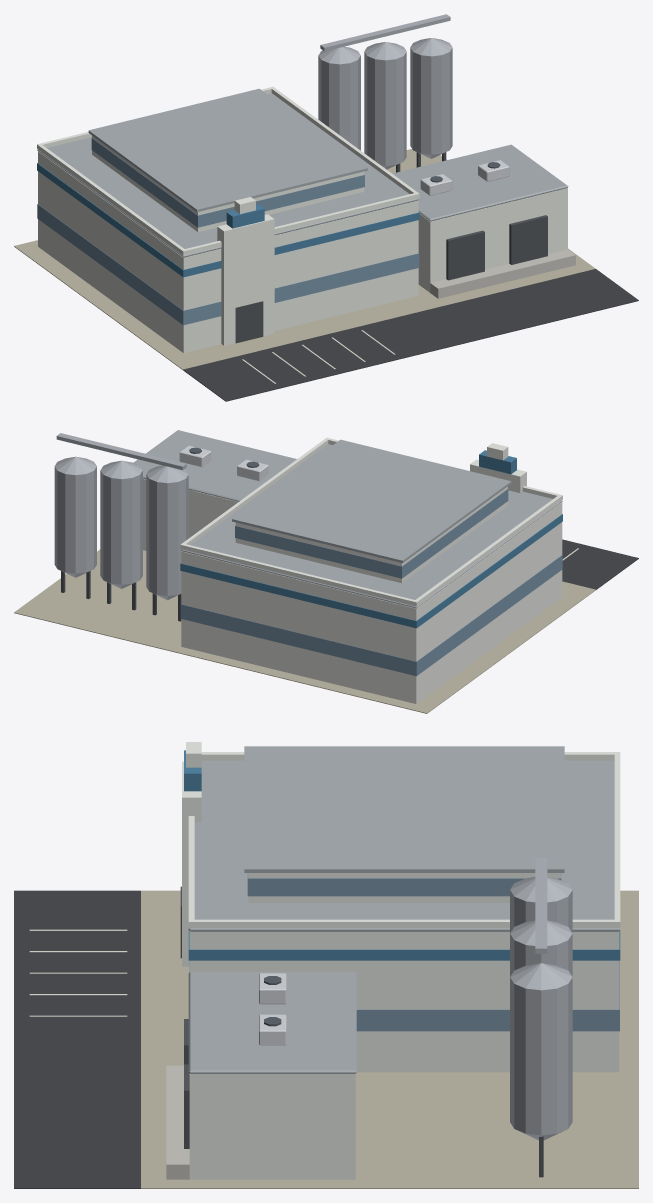
The model's file is creamery.glb.
The picture shows the model from 3 angles, top to bottom: view 1: azimuth 30°, elevation 25°; view 2: azimuth 150°, elevation 25°; view 3: azimuth 270°, elevation 25°; orthographic projection. The views are drawn at different scales.
Parts seen in each view (by area): view 1: creamery; view 2: creamery; view 3: creamery.
Part boxes in pixels (bbox=[...]): creamery: bbox=[14, 14, 638, 401]; creamery: bbox=[14, 430, 638, 713]; creamery: bbox=[14, 742, 638, 1188].
Bounding box in the file's own units: 36 × 13.1 × 32.
